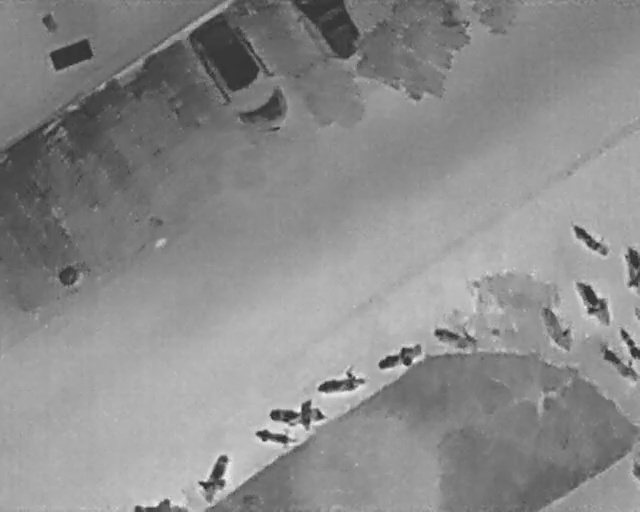Bicycle: (566, 271, 621, 331), (191, 446, 238, 509), (535, 299, 582, 357), (267, 393, 329, 434), (373, 339, 427, 376), (593, 340, 639, 383), (566, 219, 614, 260), (314, 366, 368, 397), (430, 320, 480, 351), (251, 422, 299, 450), (131, 495, 189, 510), (625, 246, 639, 291), (620, 328, 640, 359)
Car: (179, 2, 301, 149), (291, 0, 363, 60)
